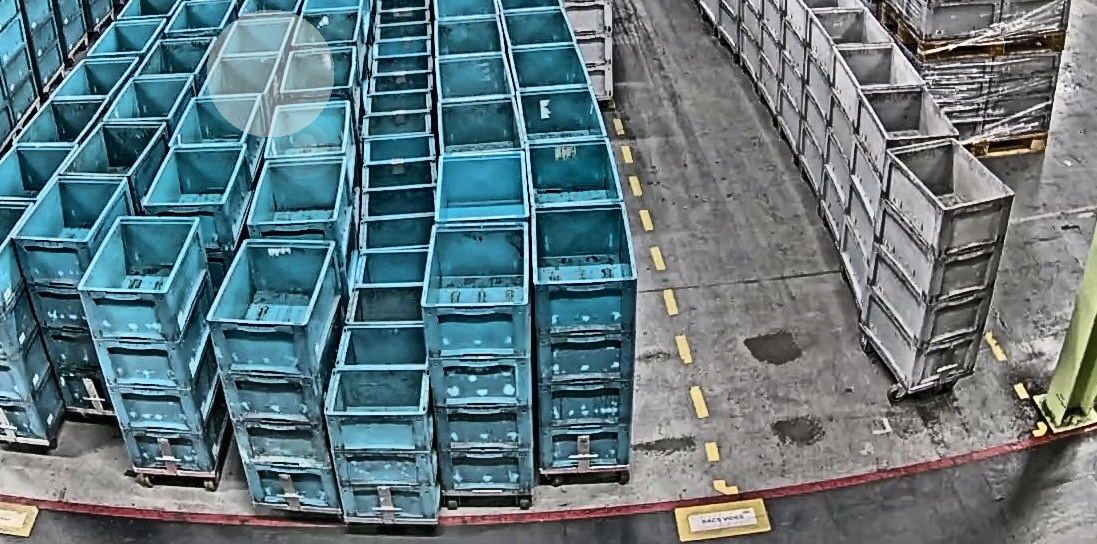4G: (858, 138, 1014, 395)
B4: (77, 216, 230, 477), (206, 240, 346, 513), (419, 224, 534, 495), (8, 176, 135, 413), (530, 202, 638, 471)
B8: (324, 323, 439, 524)
